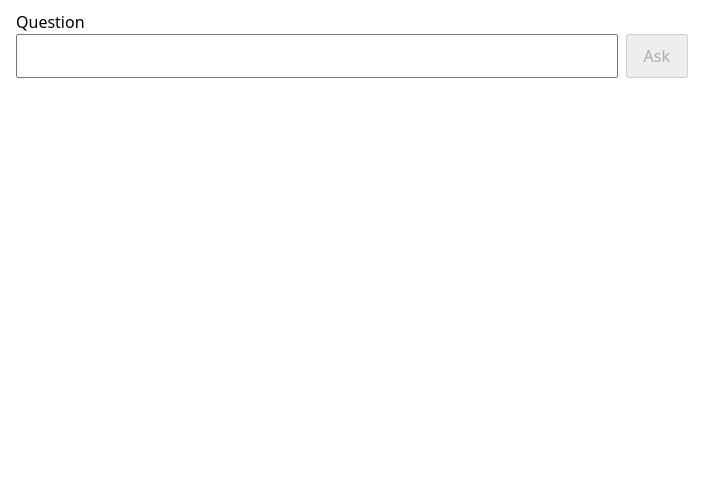
Scenario: AskForm › clears the previous answer and error on a new submission
The width and height of the screenshot is (705, 495).
Later steps or results of the test are not shown.
In the field labelled "Question": (317, 56) x1=16 y1=34 x2=618 y2=78, type "What is alpha?"
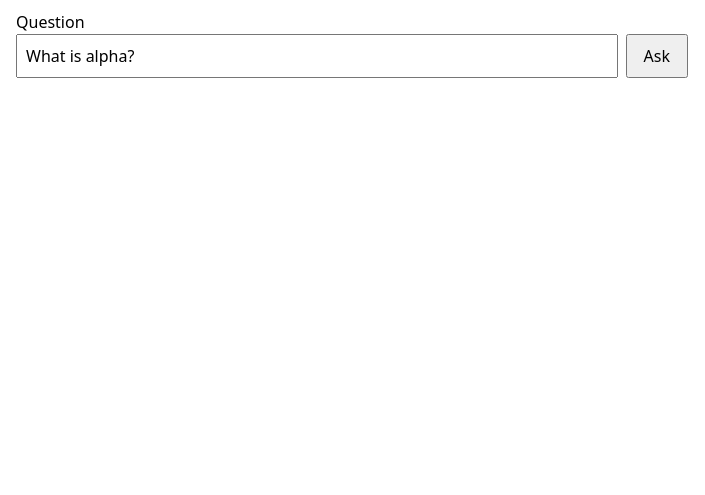
Click the button "Ask": (657, 56) x1=626 y1=34 x2=688 y2=78
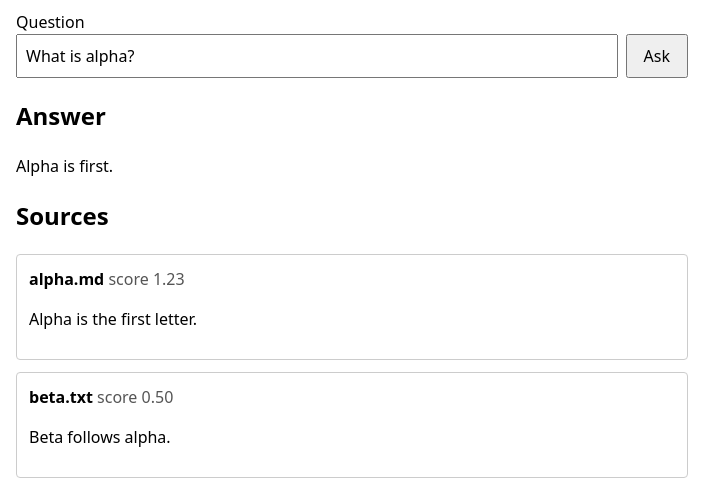
Expected: the text "Alpha is first." is shown, x1=16 y1=155 x2=113 y2=177
Replace the text in the field labelled "Question" with "second": (317, 56) x1=16 y1=34 x2=618 y2=78
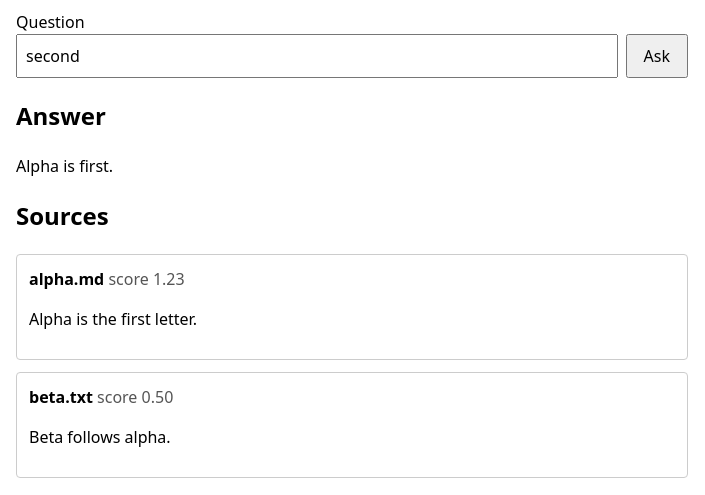
Click the button "Ask": (657, 56) x1=626 y1=34 x2=688 y2=78
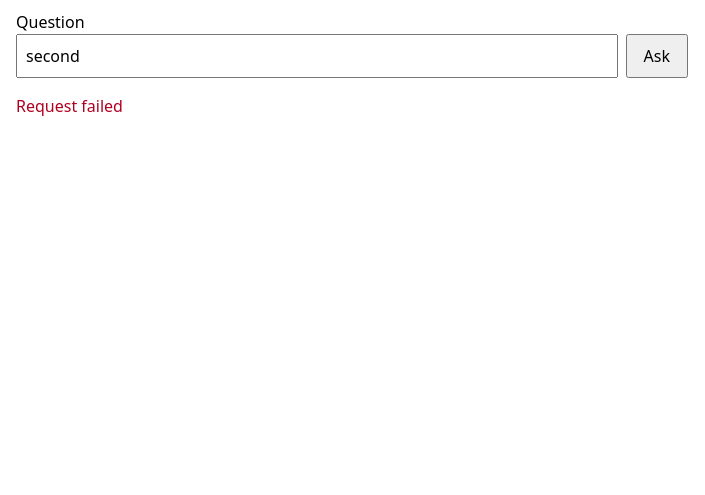
Expected: the text "Alpha is first." is gone
Expected: the text "alpha.md" is gone
Expected: the message "Request failed" is shown, x1=16 y1=95 x2=123 y2=117
